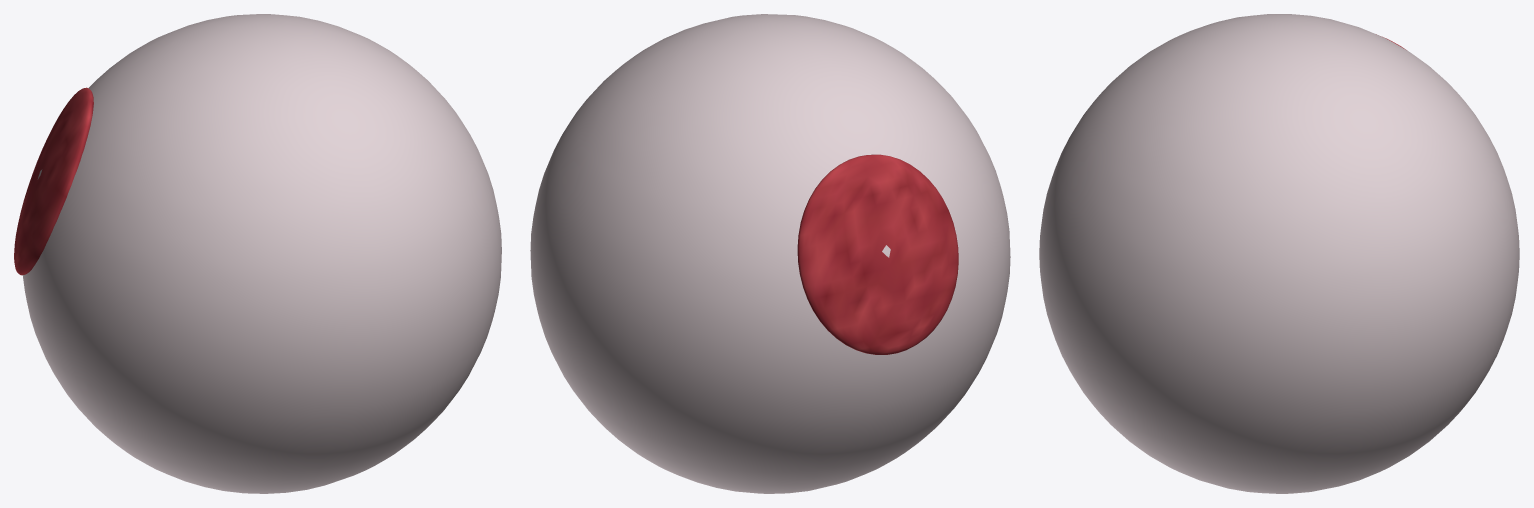
File: hafta_33.glb
3 views of the same model, side by side, from view 1: azimuth 30°, elevation 25°; view 2: azimuth 150°, elevation 25°; view 3: azimuth 270°, elevation 25° (orthographic).
Parts seen in each view (by area): view 1: Amniyon_kesesi, Plasenta; view 2: Amniyon_kesesi, Plasenta; view 3: Amniyon_kesesi.
Boxes of the visible parts, x1,y1,x2,y2 form: Amniyon_kesesi: [22, 14, 501, 493]; Plasenta: [14, 87, 93, 275]; Amniyon_kesesi: [530, 14, 1010, 493]; Plasenta: [797, 154, 958, 354]; Amniyon_kesesi: [1039, 14, 1519, 493].
Bounding box in the file's own units: 1.67 × 1.67 × 1.67.
